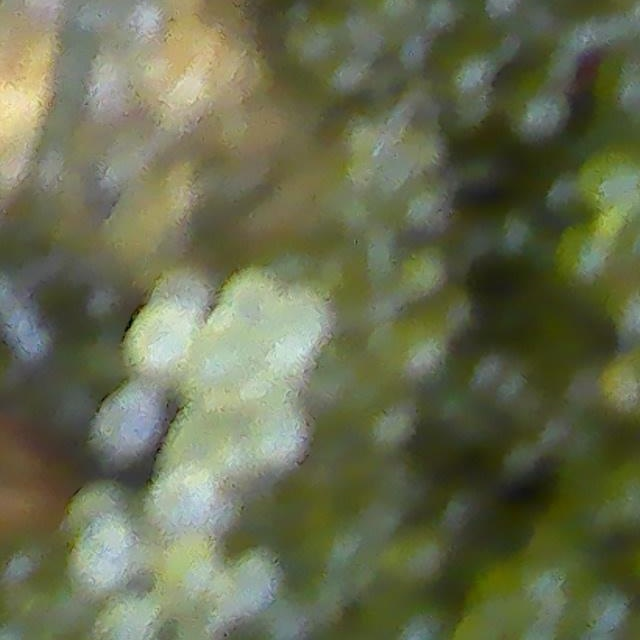SeaGrape: (145, 468, 235, 548), (261, 278, 335, 361), (91, 386, 165, 463), (122, 310, 198, 381), (237, 403, 312, 473), (155, 540, 230, 610), (68, 522, 140, 594), (187, 330, 250, 403), (153, 264, 212, 313)
